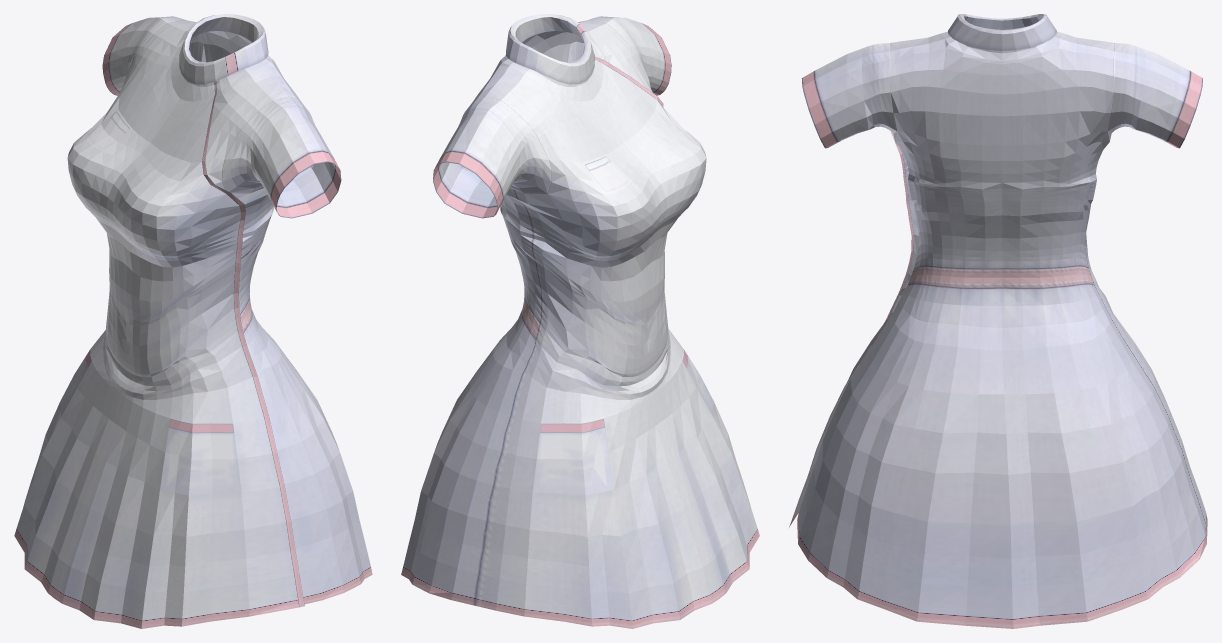
Rendered from 86C62B9QEAJ3PSDIUKQKBP73J.obj.
The picture shows the model from 3 angles, left to right: view 1: azimuth 30°, elevation 25°; view 2: azimuth 150°, elevation 25°; view 3: azimuth 270°, elevation 25°; orthographic projection. The views are drawn at different scales.
Visible parts, largest first — view 1: Object_a_fuku_09_01.jpg; view 2: Object_a_fuku_09_01.jpg; view 3: Object_a_fuku_09_01.jpg.
Part boxes in pixels (x1=…): Object_a_fuku_09_01.jpg: x1=14, y1=14, x2=372, y2=628; Object_a_fuku_09_01.jpg: x1=401, y1=14, x2=759, y2=628; Object_a_fuku_09_01.jpg: x1=789, y1=14, x2=1207, y2=628.
Bounding box in the file's own units: 1.38 × 2.5 × 1.7.
20 materials, 20 textured.
